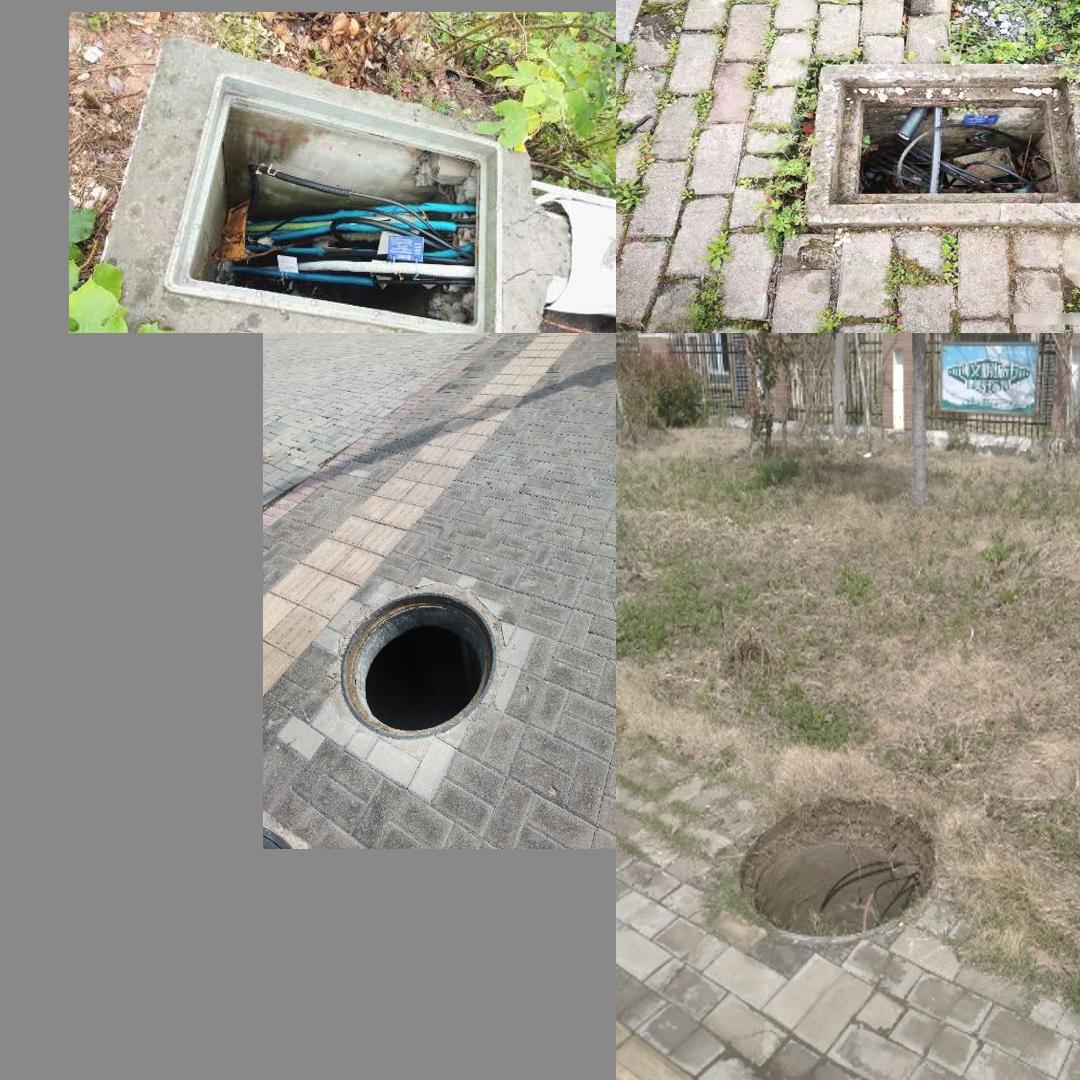lose: (163, 71, 503, 333), (803, 61, 1080, 225), (735, 782, 949, 940), (338, 591, 495, 737)
